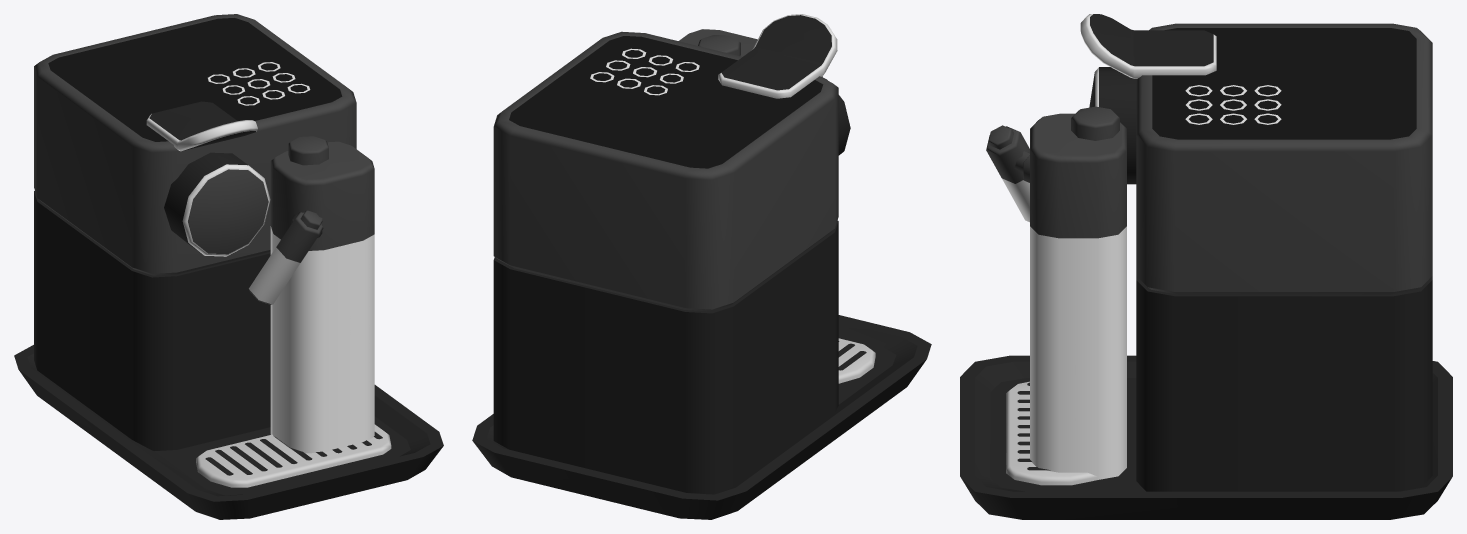
Rendered from electronics_012.fbx.
3 views of the same model, side by side, from view 1: azimuth 30°, elevation 25°; view 2: azimuth 150°, elevation 25°; view 3: azimuth 270°, elevation 25° (orthographic). The views are drawn at different scales.
Visible parts, largest first — view 1: electronics_012; view 2: electronics_012; view 3: electronics_012.
Part boxes in pixels (x1,y1,x2,y2): electronics_012: (14, 14, 443, 519); electronics_012: (472, 14, 931, 519); electronics_012: (960, 14, 1452, 519).
Size of the model in its own units: 51 by 74.57 by 68.09.
